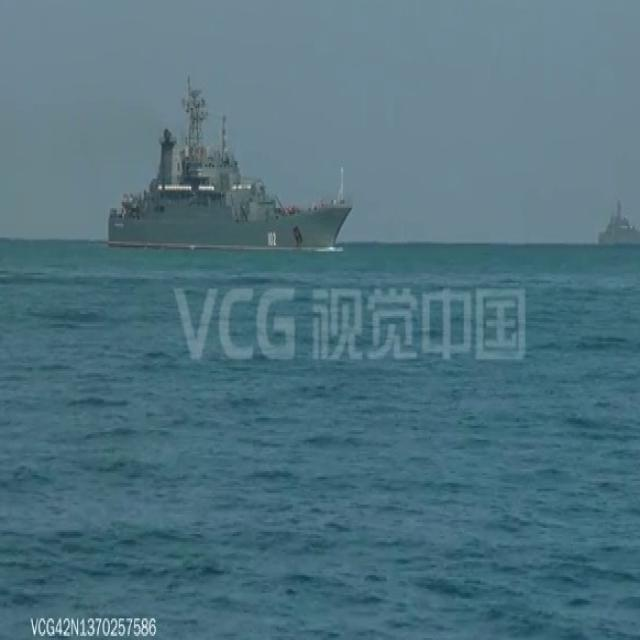navalvessels: (108, 72, 355, 249), (595, 194, 640, 246)
